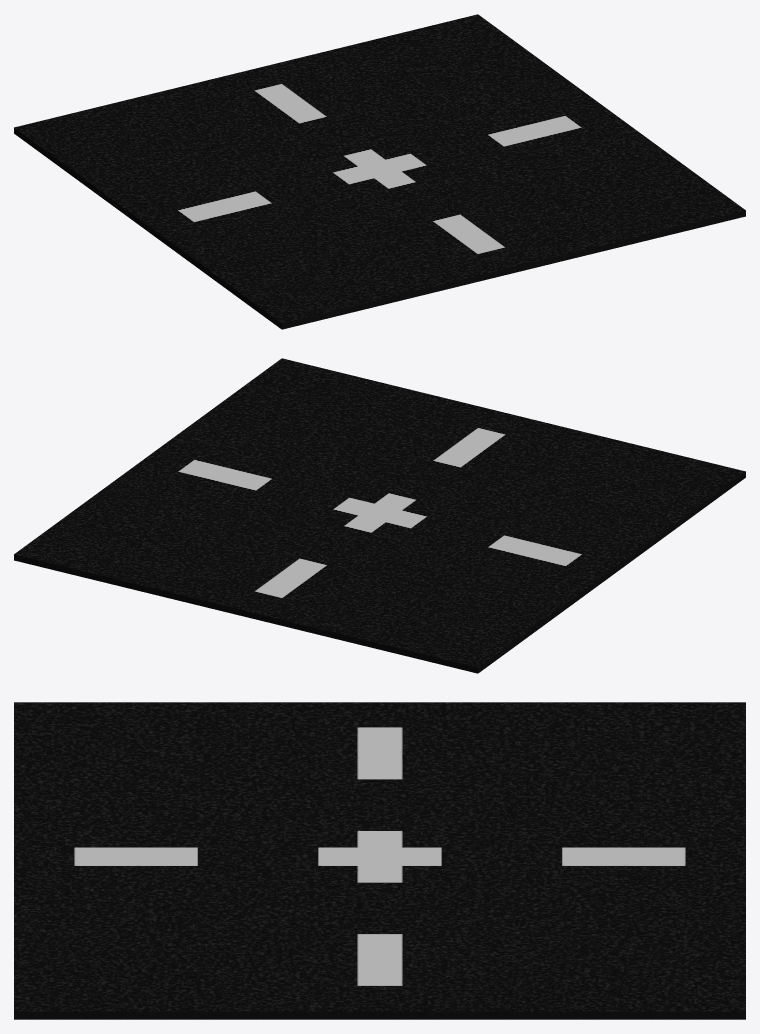
Rendered from 4way_road.glb.
3 renders of one model, top to bottom at view 1: azimuth 30°, elevation 25°; view 2: azimuth 150°, elevation 25°; view 3: azimuth 270°, elevation 25°, orthographic. The views are drawn at different scales.
Parts seen in each view (by area): view 1: road_4way -col; view 2: road_4way -col; view 3: road_4way -col.
Part boxes in pixels (left/top/right/bottom): road_4way -col: left=14, top=14, right=745, bottom=329; road_4way -col: left=14, top=358, right=745, bottom=673; road_4way -col: left=14, top=702, right=745, bottom=1019.
Bounding box in the file's own units: 8 × 0.1 × 8.
1 material, 1 textured.
